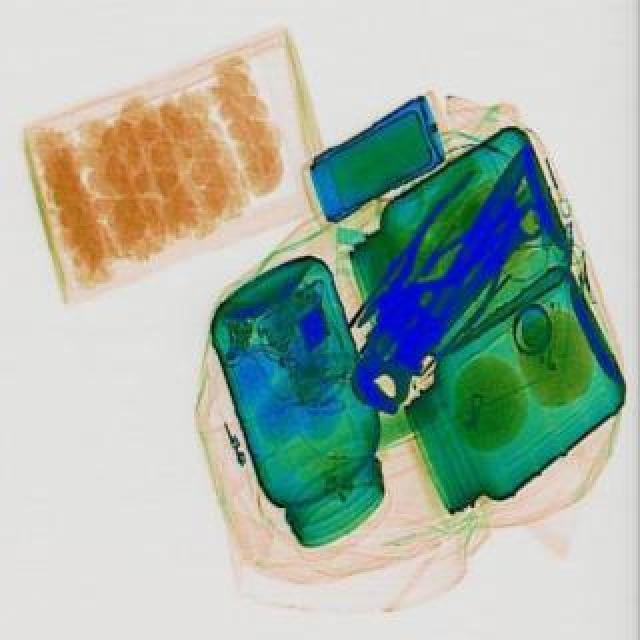scissors: (356, 196, 564, 420)
wrench: (340, 172, 512, 354)
